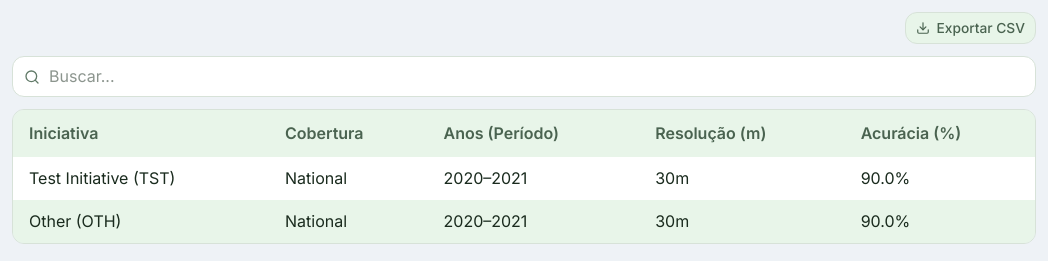
it: InitiativesTable (Fase 2: iniciativa/área/ano) › filters by search text
In the field with placeholder "Buscar...": [524, 77] box [12,56,1036,97], type "Other"
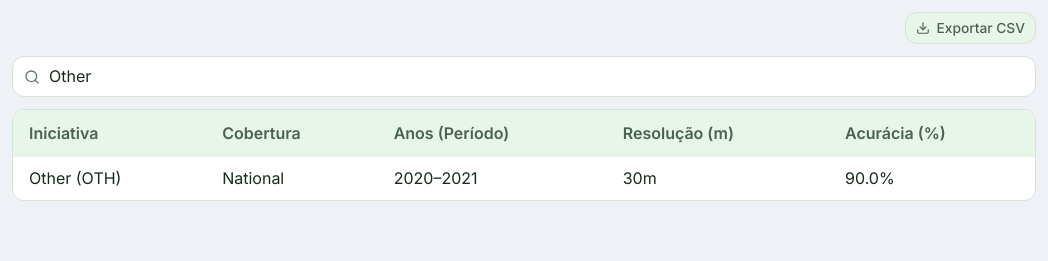
Check: the text "Other (OTH)" is shown, box [13,157,206,200]
Check: the text "Test Initiative (TST)" is gone
